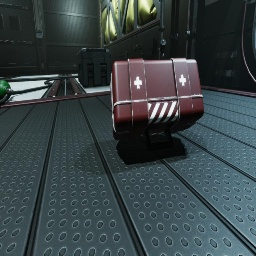0: (0, 80, 14, 100)
FirstAidBox ,: (110, 58, 204, 152)
SafetySwitchPanel ,: (205, 0, 227, 7)
